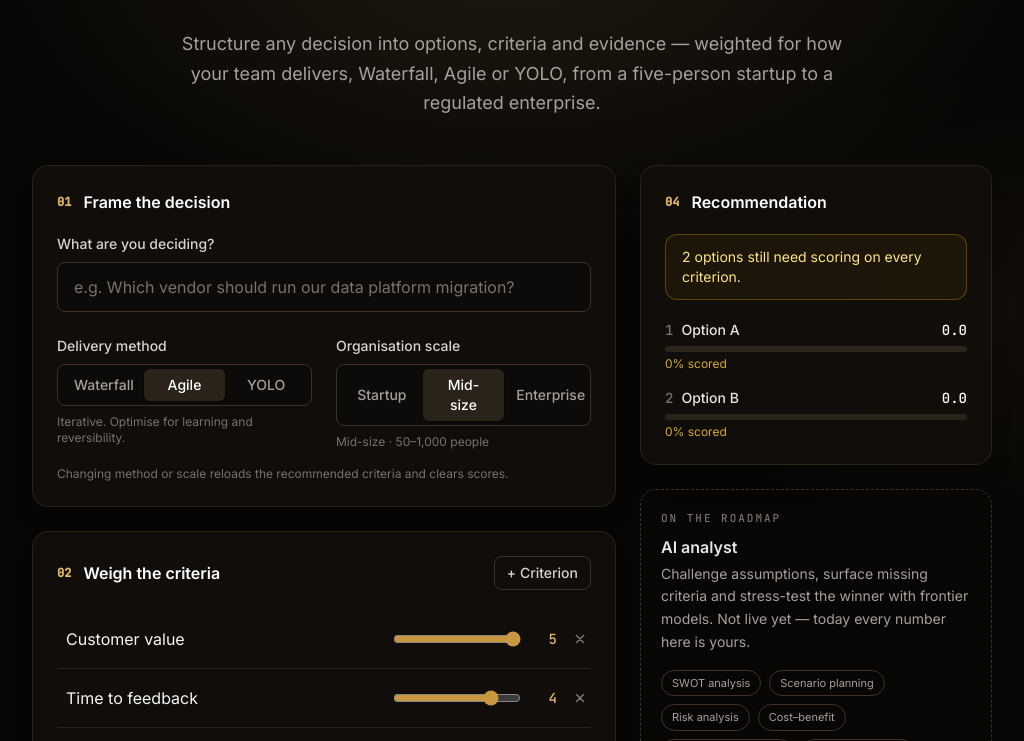
App › switching method swaps the criteria
(page scrolled)
Click the radio button labelled "Waterfall".
click(103, 385)  # box [62,369,144,401]
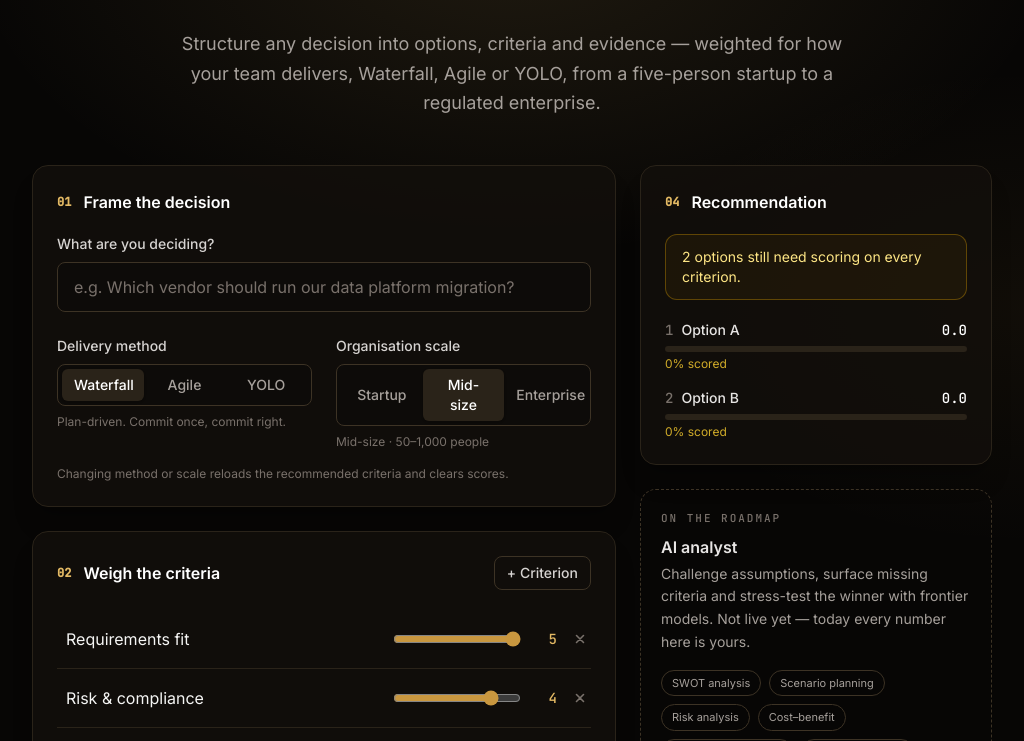
Check: the 2nd field showing "Risk & compliance" is shown, box [57,681,377,715]
